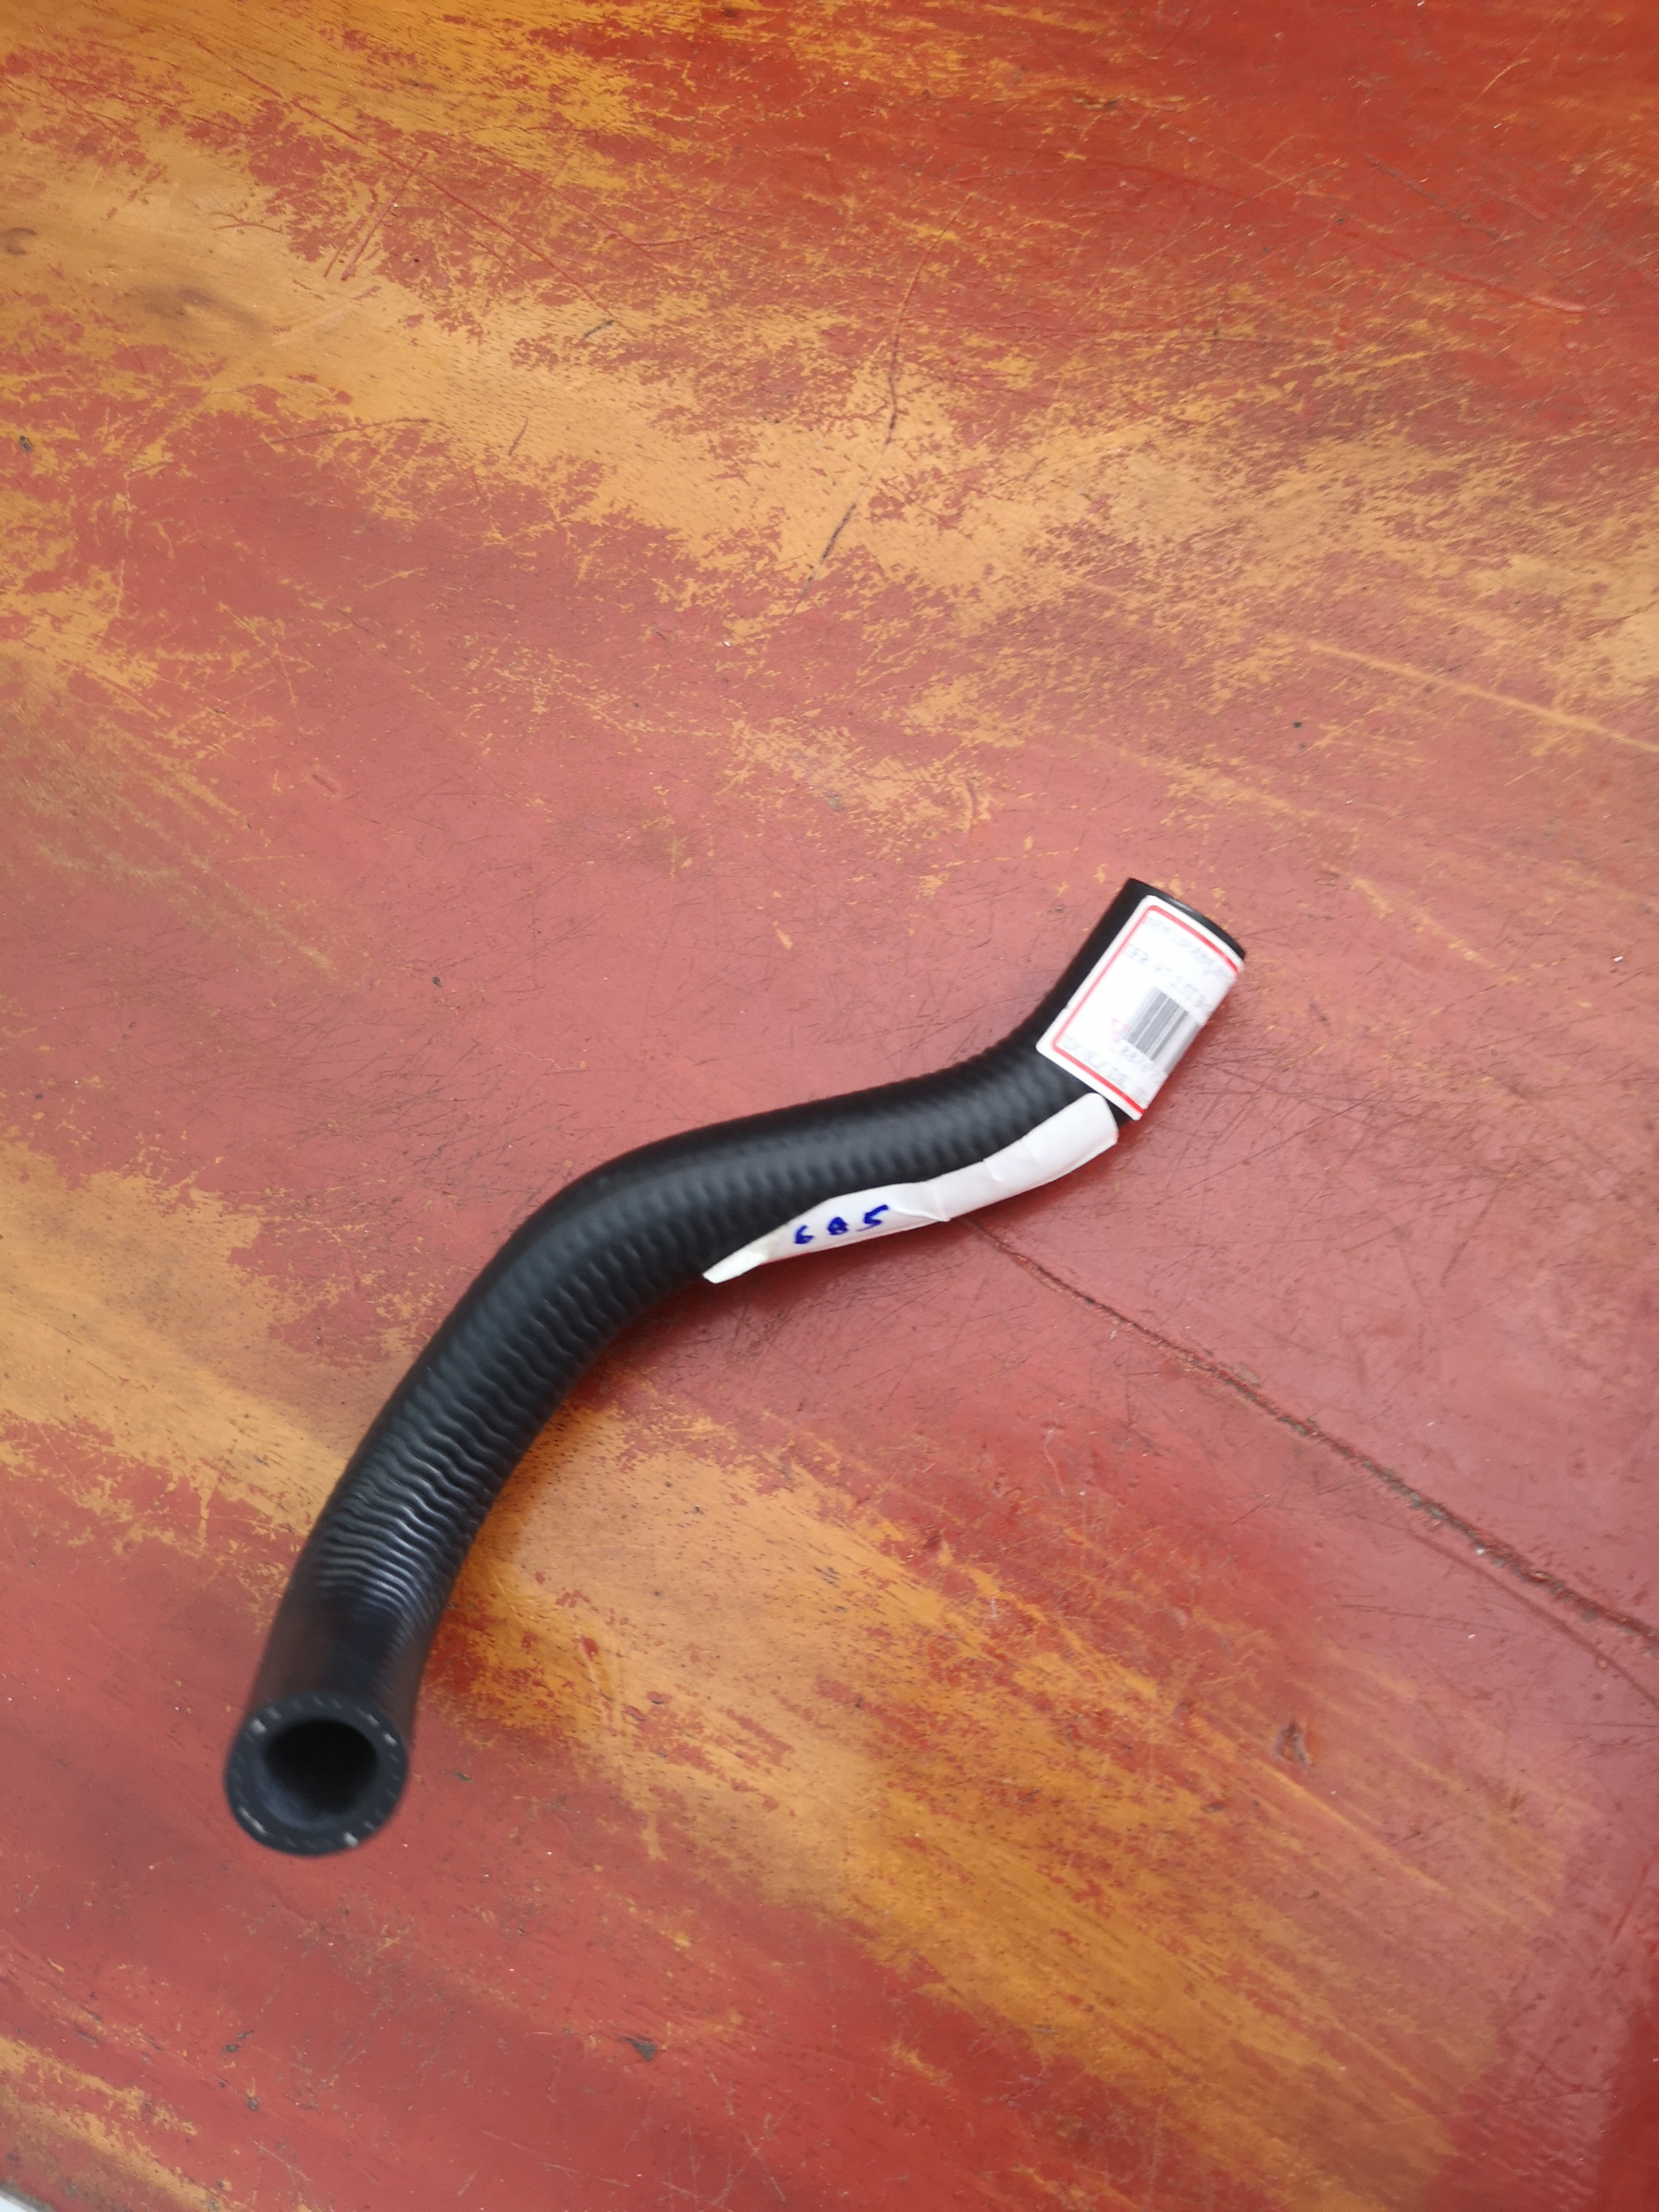ท่อยางน้ำมันเลี้ยงเทอร์โบ: (220, 873, 1223, 1878)
